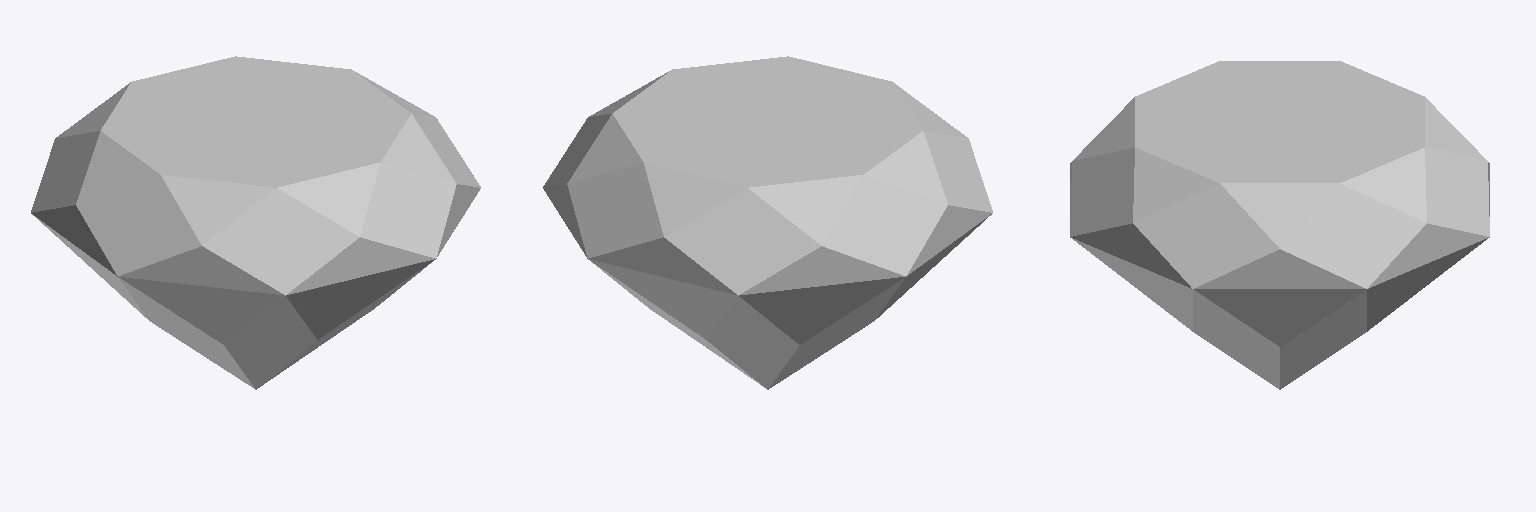
File: chsrm.obj
The picture shows the model from 3 angles: view 1: azimuth 30°, elevation 25°; view 2: azimuth 150°, elevation 25°; view 3: azimuth 270°, elevation 25°; orthographic projection.
Visible parts, largest first — view 1: Gem; view 2: Gem; view 3: Gem.
Part boxes in pixels (bbox=[...]): Gem: bbox=[31, 56, 480, 389]; Gem: bbox=[543, 56, 992, 389]; Gem: bbox=[1070, 61, 1489, 389].
Size of the model in its own units: 0.9239 by 0.65 by 0.9239.